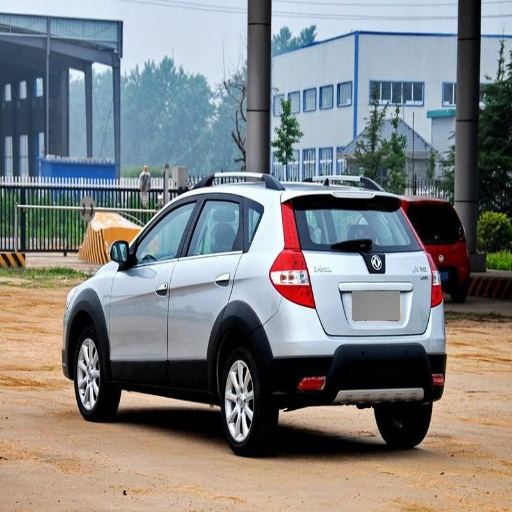back_bumper: (258, 296, 447, 404)
back_glass: (294, 196, 420, 249)
back_left_door: (168, 195, 245, 382)
